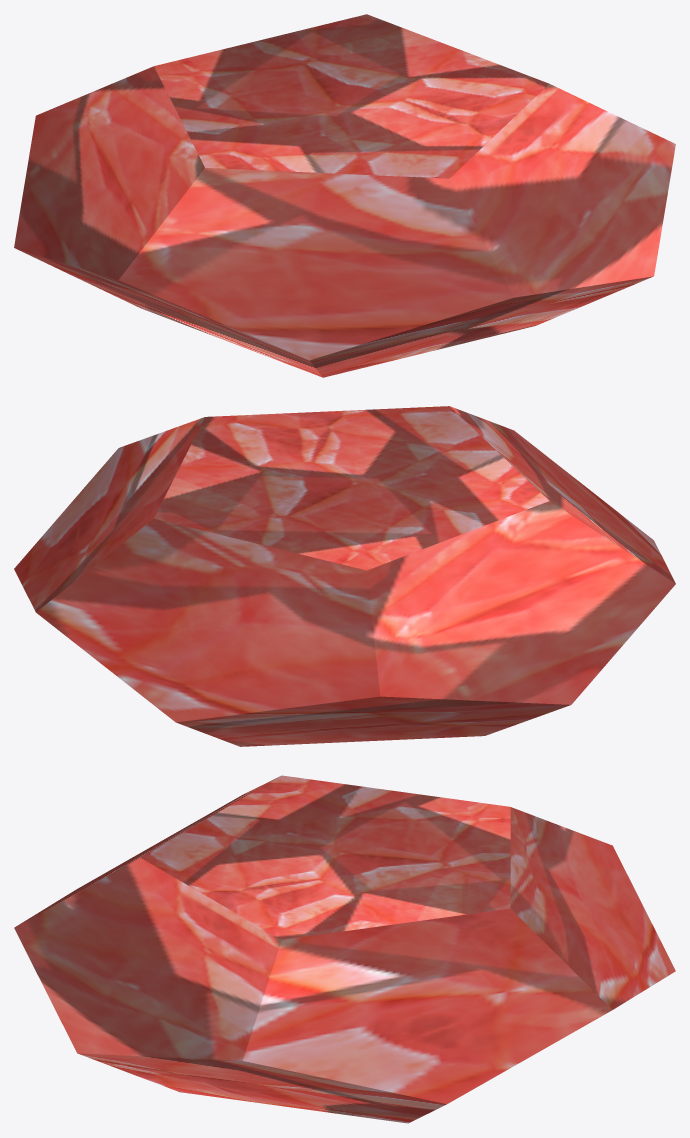
File: p2_diamond3.fbx
3 renders of one model, top to bottom at view 1: azimuth 30°, elevation 25°; view 2: azimuth 150°, elevation 25°; view 3: azimuth 270°, elevation 25°, orthographic. The views are drawn at different scales.
Visible parts, largest first — view 1: dodecahedron; view 2: dodecahedron; view 3: dodecahedron.
Boxes of the visible parts, <box> form: dodecahedron: <box>14,14,675,377</box>; dodecahedron: <box>14,406,675,746</box>; dodecahedron: <box>14,775,675,1123</box>.
Size of the model in its own units: 198 by 63.79 by 208.
